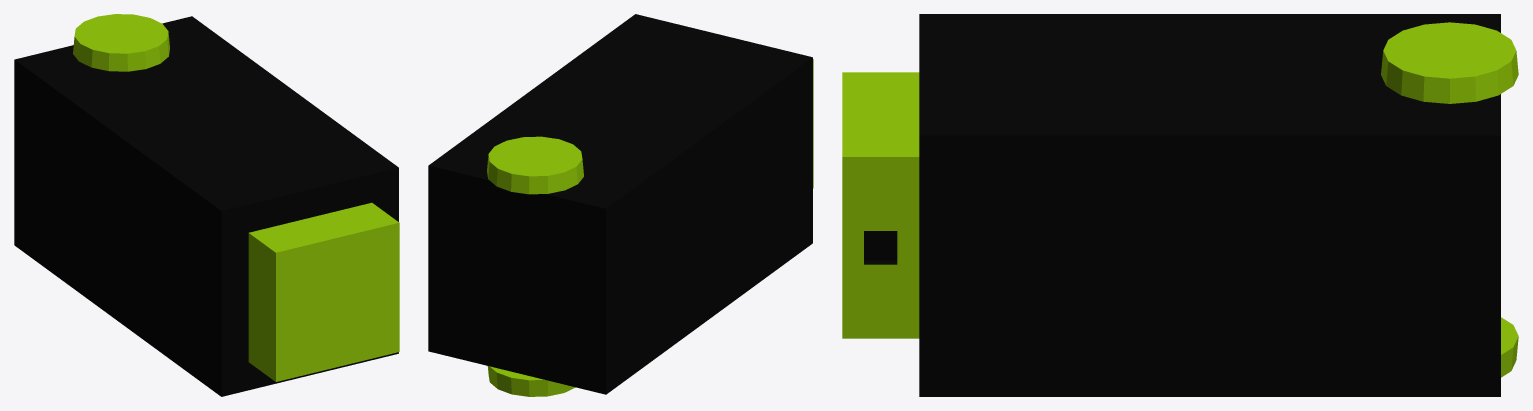
Rendered from robot.obj.
3 renders of one model, left to right at view 1: azimuth 30°, elevation 25°; view 2: azimuth 150°, elevation 25°; view 3: azimuth 270°, elevation 25°, orthographic. The views are drawn at different scales.
Visible parts, largest first — view 1: Robot; view 2: Robot; view 3: Robot.
Boxes of the visible parts, x1,y1,x2,y2 form: Robot: (14, 14, 399, 396); Robot: (428, 14, 813, 396); Robot: (842, 14, 1518, 396).
Bounding box in the file's own units: 0.4003 × 0.475 × 0.9396.
